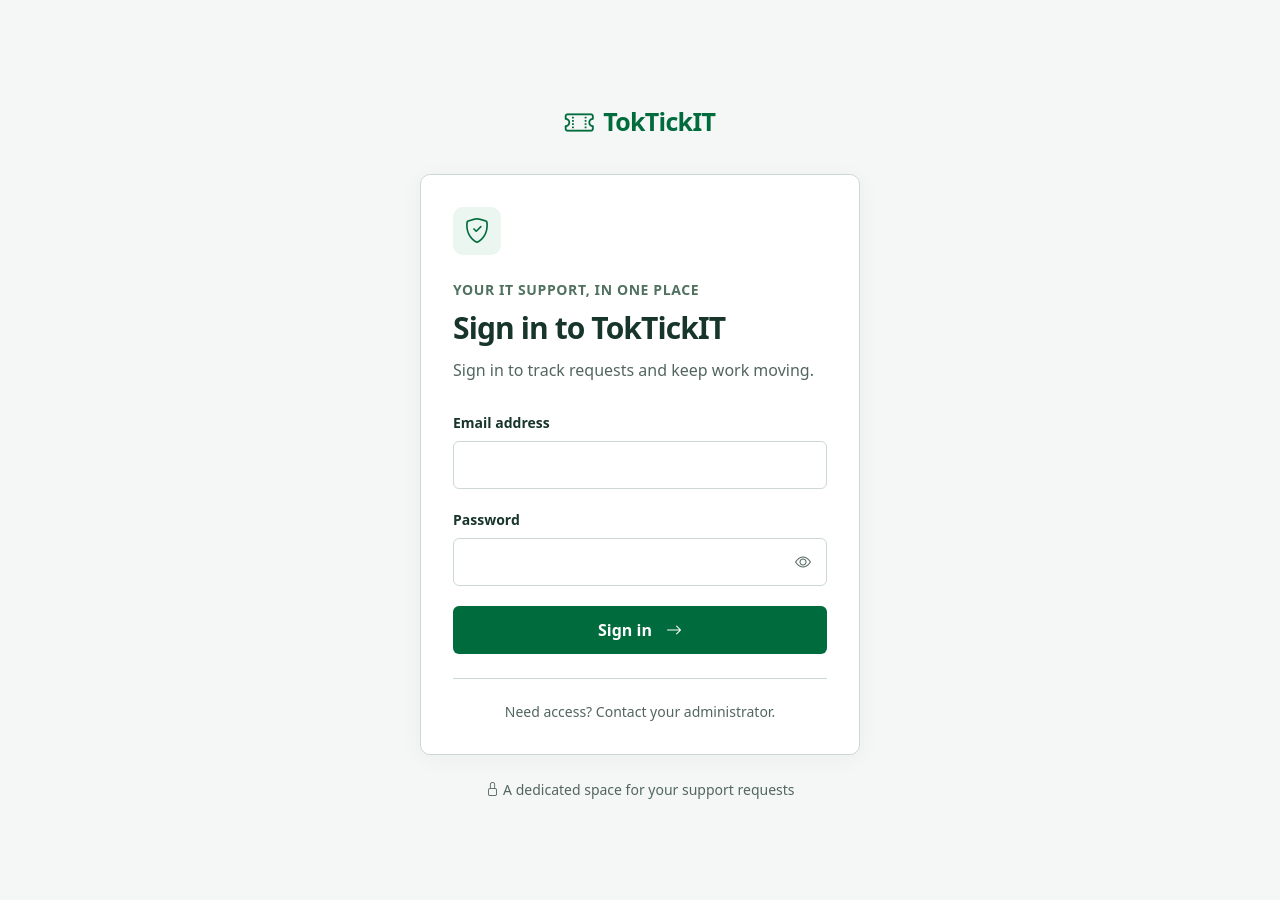
Test case: Intended destination after authentication › restores a signed-out ticket deep link after login and a login-screen remount
In the field labelled "Email address": (640, 464) [453,440,827,488], type "requester@example.test"
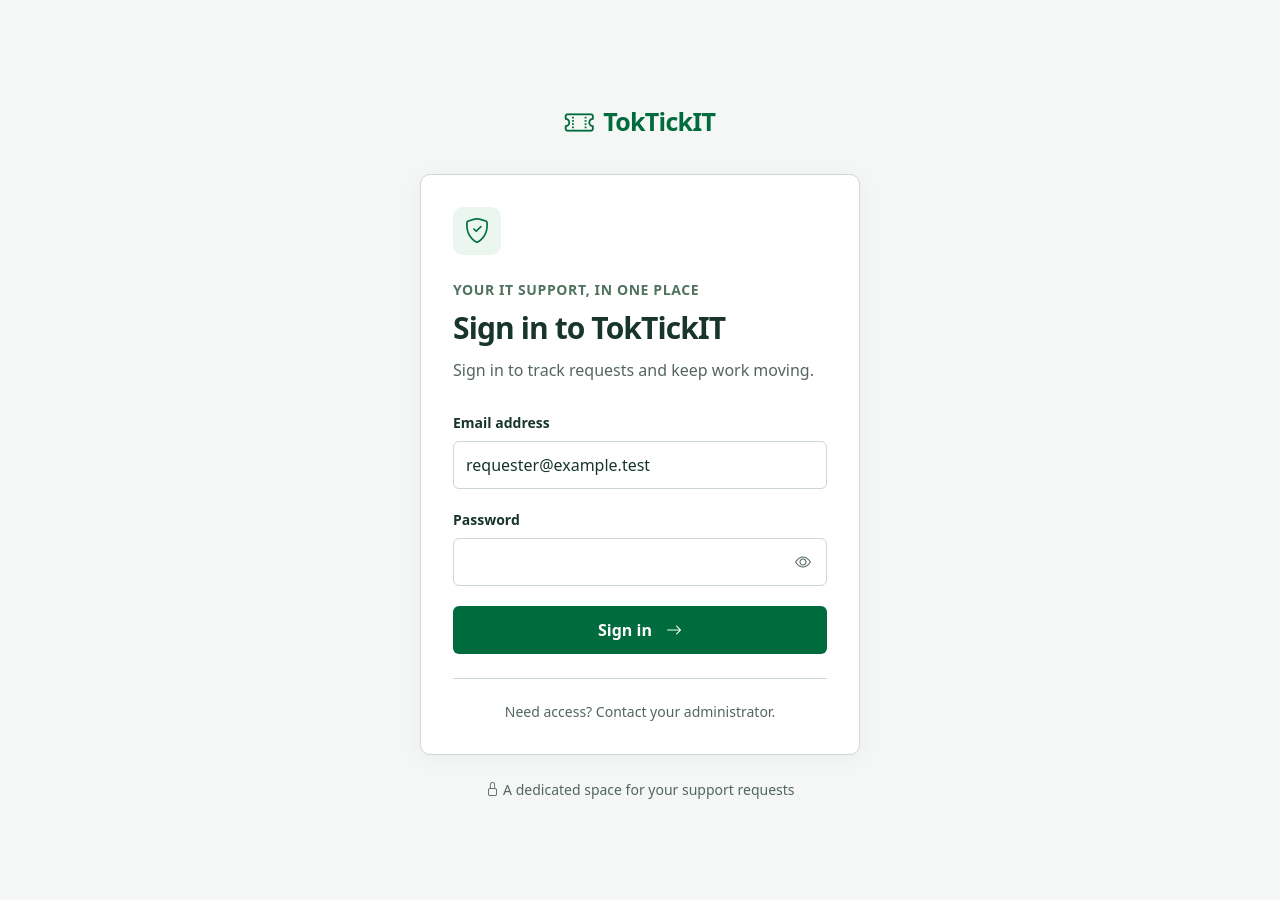
In the password field labelled "Password": (640, 562) [453,538,827,586], type "Synthetic password only"
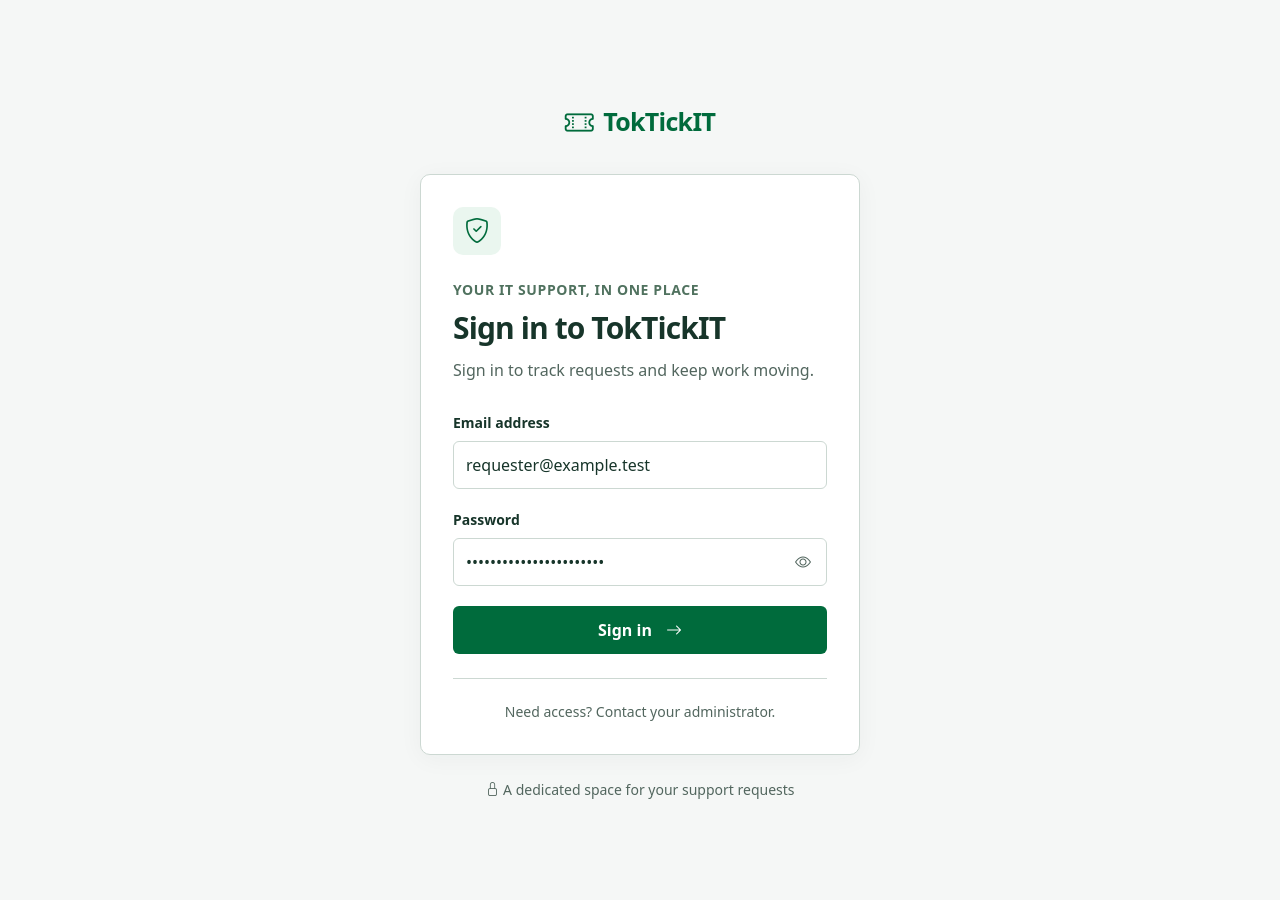
Click the button "Sign in": (640, 630) [453,606,827,654]
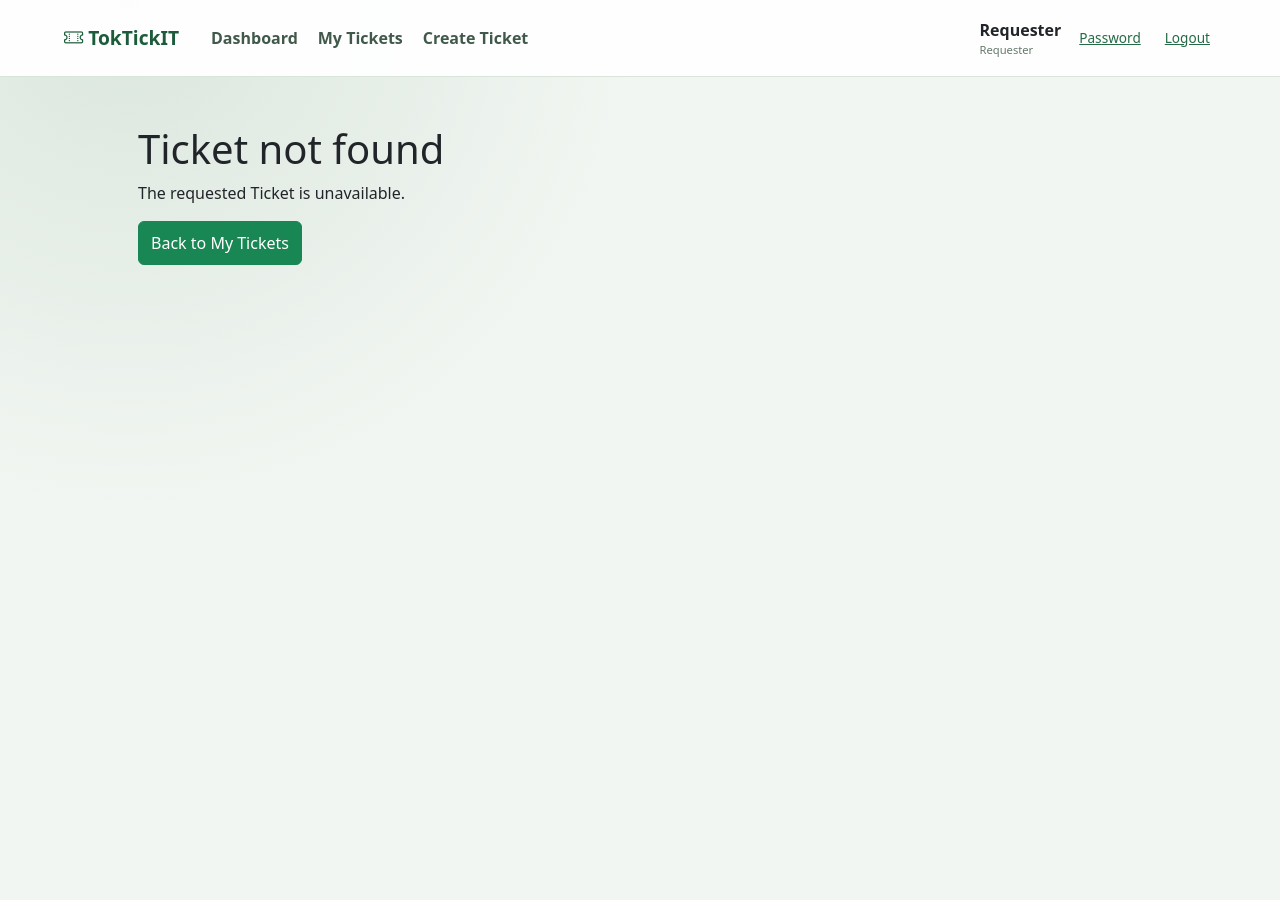
Expected: the heading "Ticket not found" is shown, [138,121,444,176]
